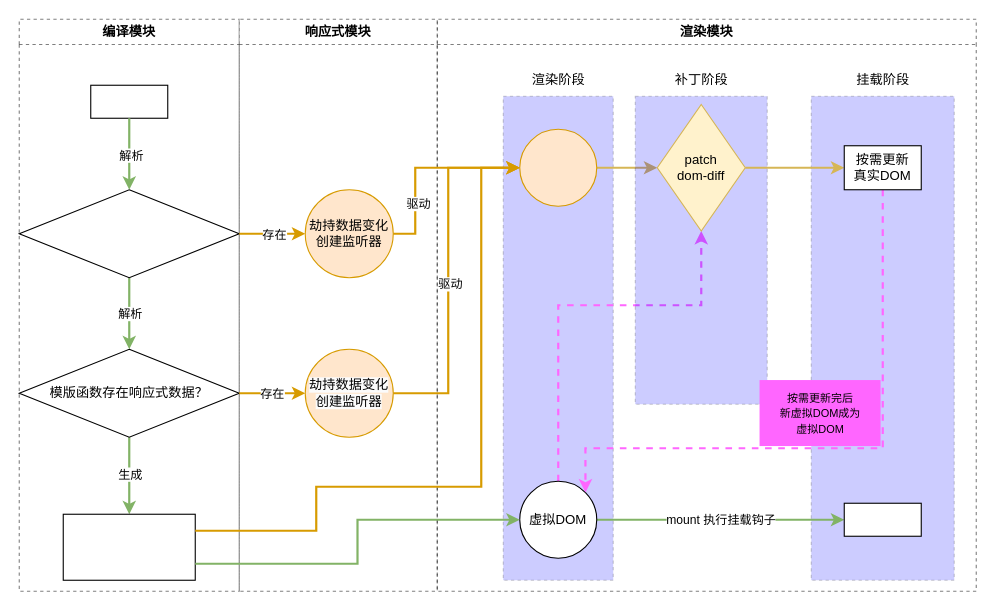
Some shapes in this 996 by 611 pixel diagram are drawn without their labels. Each missing label, with the centre of its shape:
全量挂载到真实DOM: point (882, 519)
新虚拟DOM: point (558, 167)
模版HTML存在响应式数据？: point (128, 233)
渲染函数: point (128, 546)
组件: point (129, 101)
